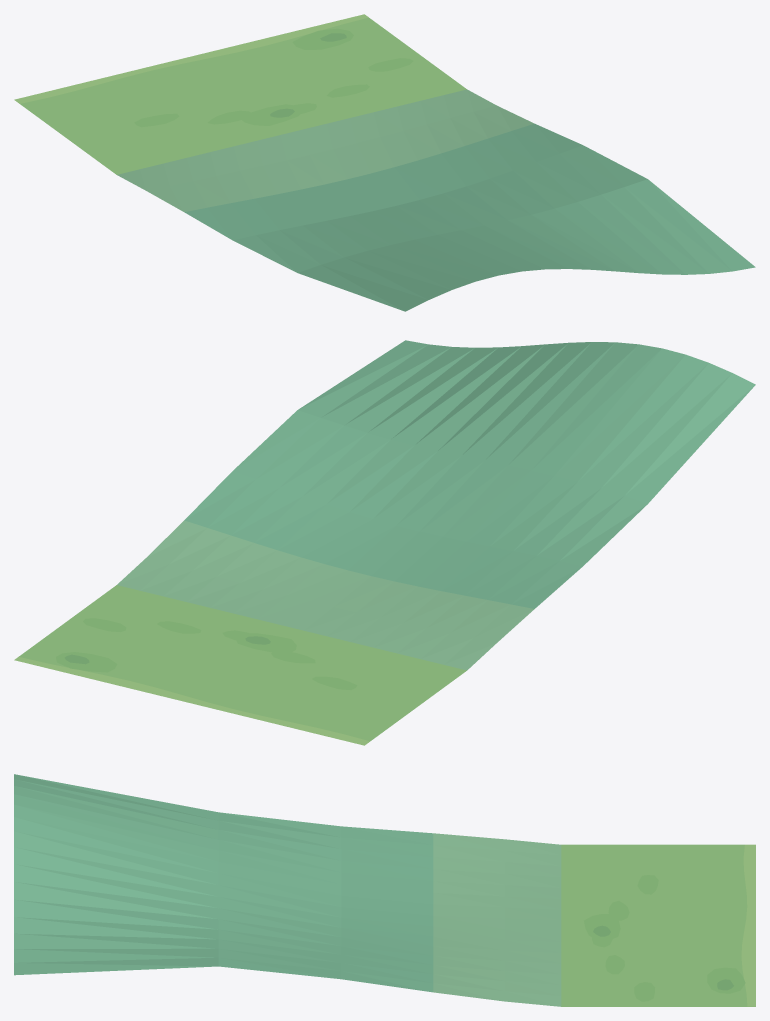
Rendered from Prairie_3.fbx.
The picture shows the model from 3 angles, top to bottom: view 1: azimuth 30°, elevation 25°; view 2: azimuth 150°, elevation 25°; view 3: azimuth 270°, elevation 25°; orthographic projection. The views are drawn at different scales.
Visible parts, largest first — view 1: Prairie_3; view 2: Prairie_3; view 3: Prairie_3.
Boxes of the visible parts, x1,y1,x2,y2 form: Prairie_3: (14,14,755,311); Prairie_3: (14,340,755,745); Prairie_3: (14,774,755,1006).
Bounding box in the file's own units: 7500 × 1798 × 14504.
Materials: 1 (1 with a texture image).
